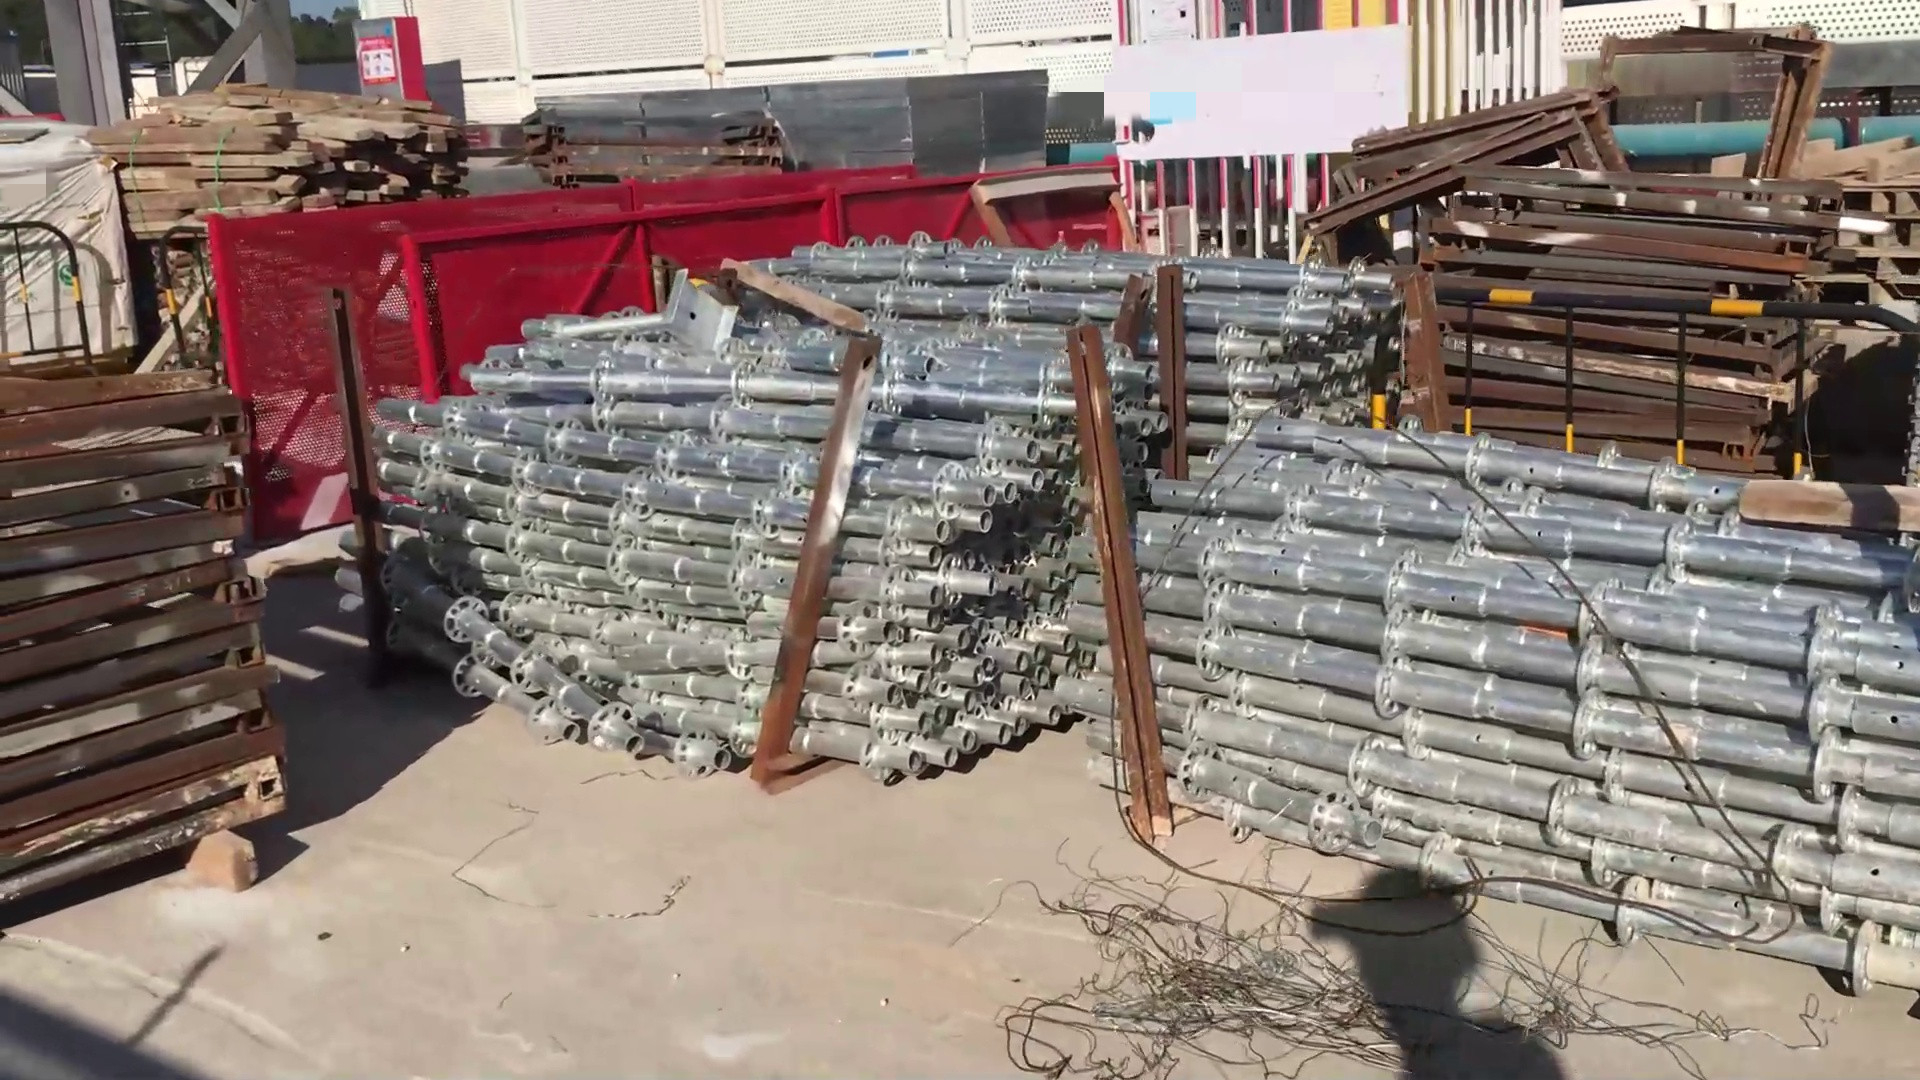fence: (1362, 284, 1917, 454)
rebar: (3, 334, 289, 899), (1444, 127, 1840, 414)
scaffold: (1109, 430, 1920, 960), (423, 315, 1091, 806), (811, 241, 1440, 436)
wood: (115, 80, 473, 211)
